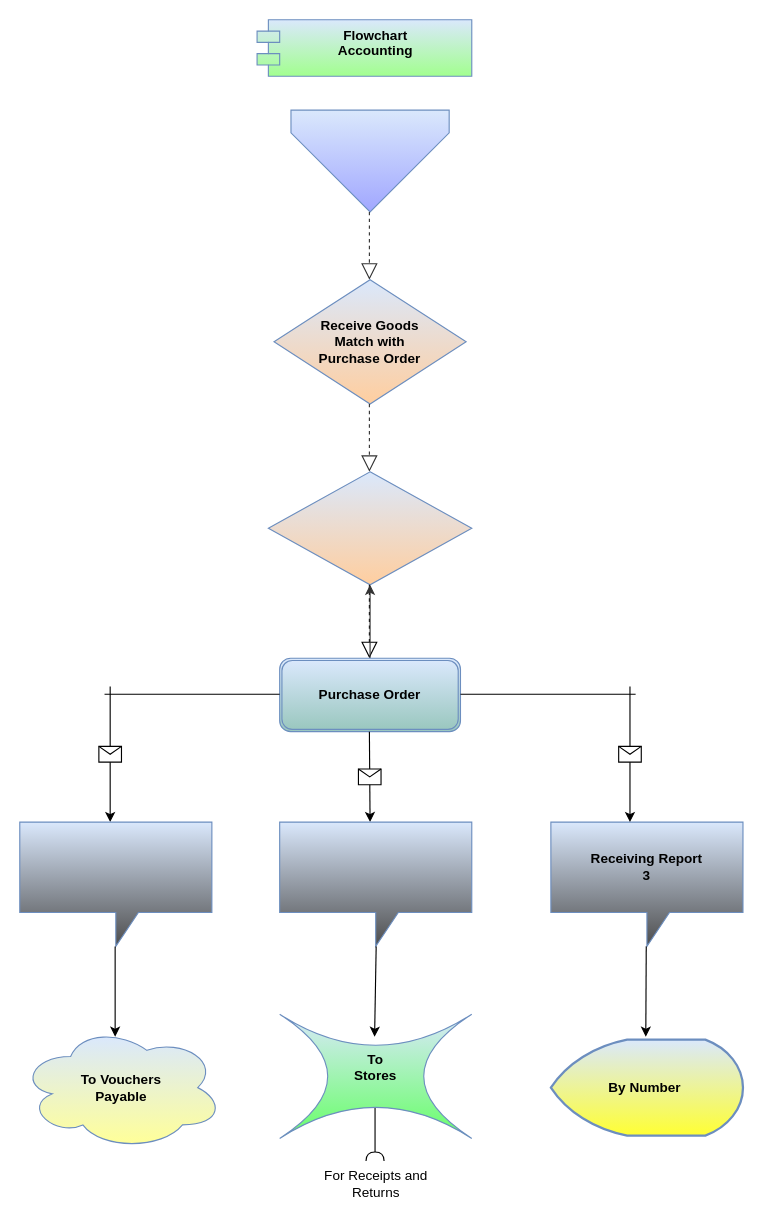
This 764x1226 diagram has some shape labels left out. The shapes that lost their labels are listed below. From the top down, each one's centre as x and y in pixels, then its label:
At point 369,160: "From Purchasing".
At point 369,528: "Preparation of Receiving Report".
At point 115,883: "Receiving Report 1".
At point 375,883: "Receiving Report 2".
